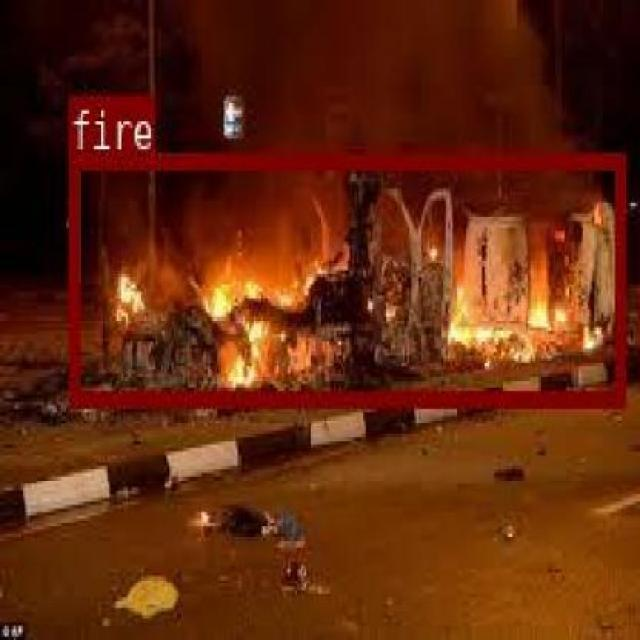Fire: (346, 253, 556, 278)
